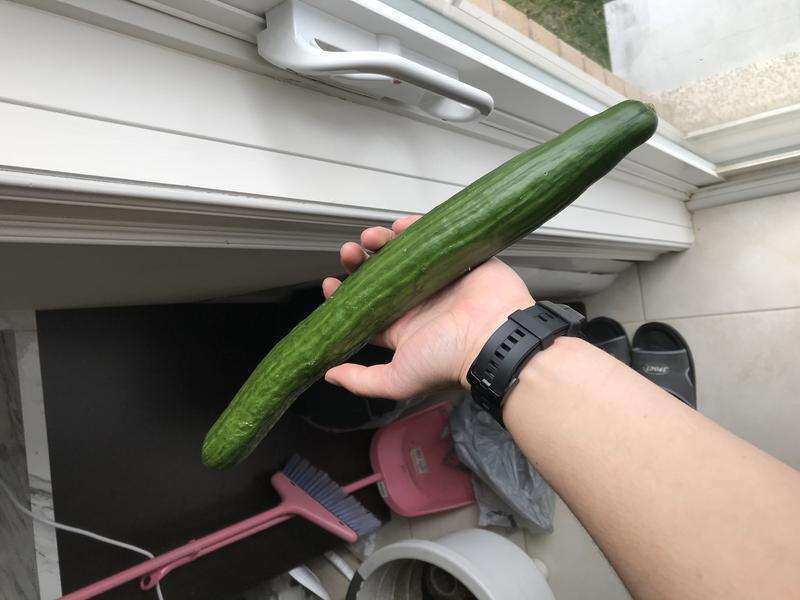cucumber: (178, 92, 673, 505)
